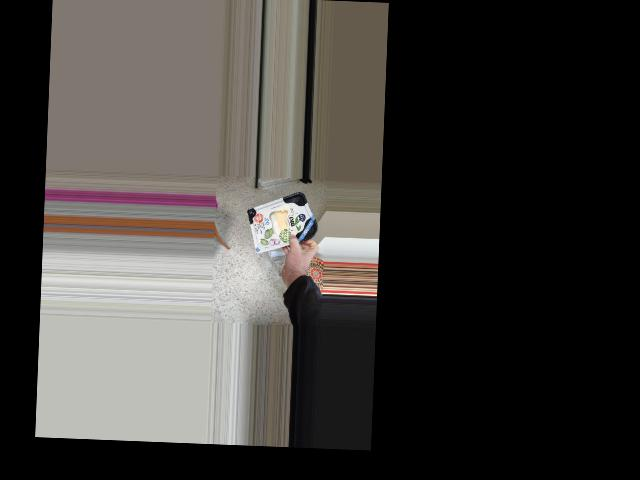cheese: (247, 199, 316, 249)
